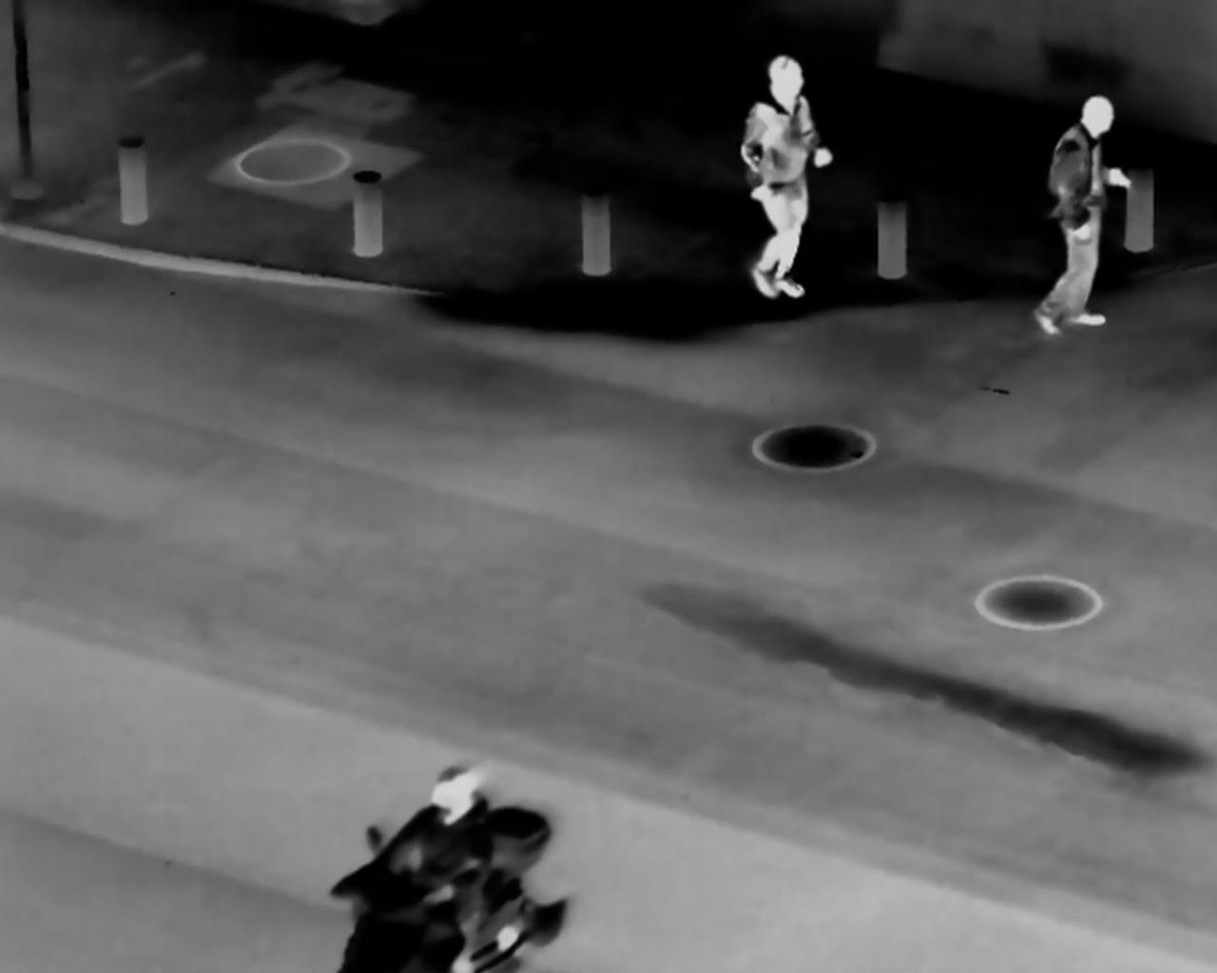person: (1031, 86, 1138, 336), (364, 759, 495, 944), (736, 46, 825, 307)
